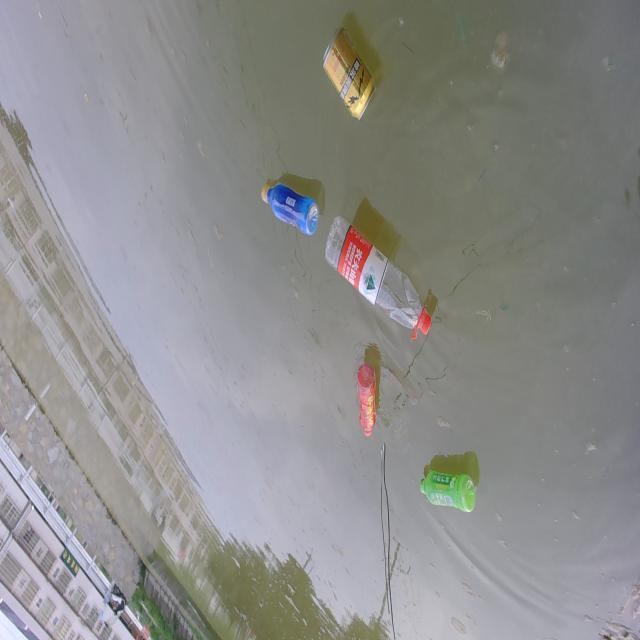garbage: (261, 181, 319, 236), (419, 469, 475, 513)
